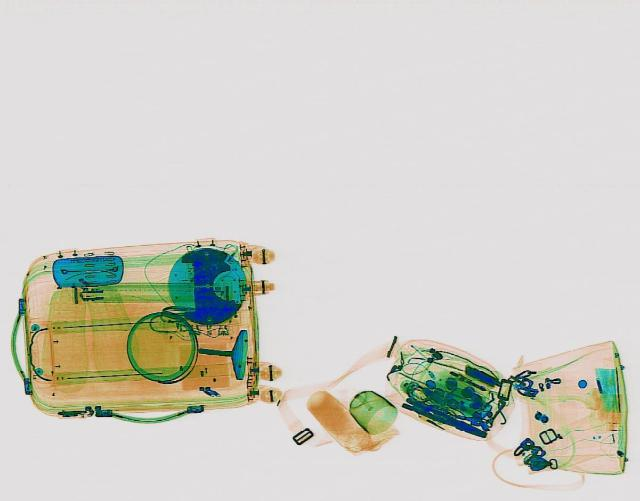Pliers: (397, 395, 491, 439)
